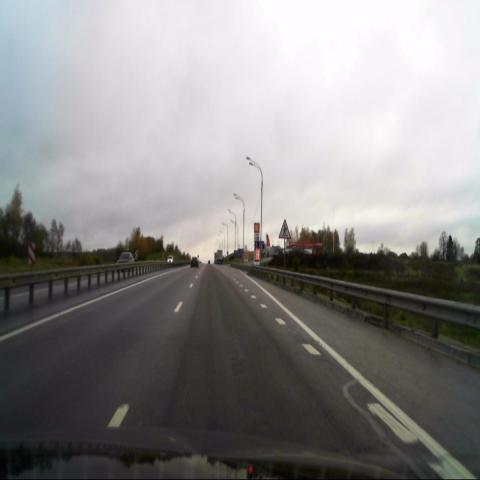1_22: (278, 219, 291, 239)
